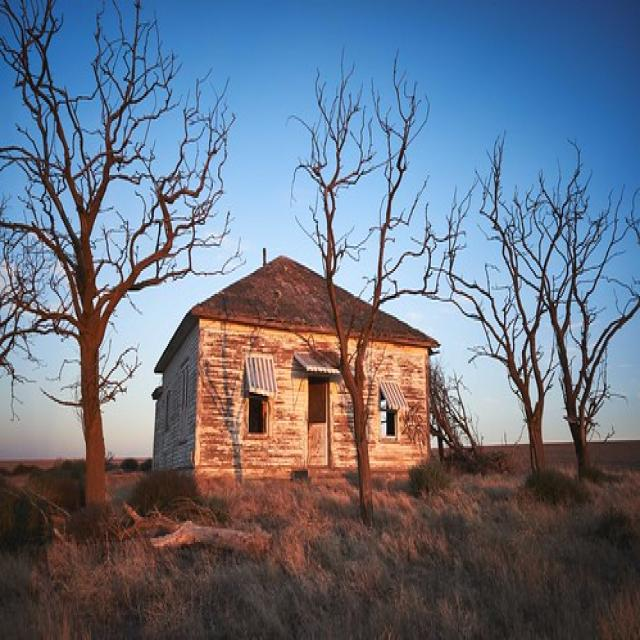building: (144, 249, 438, 487)
